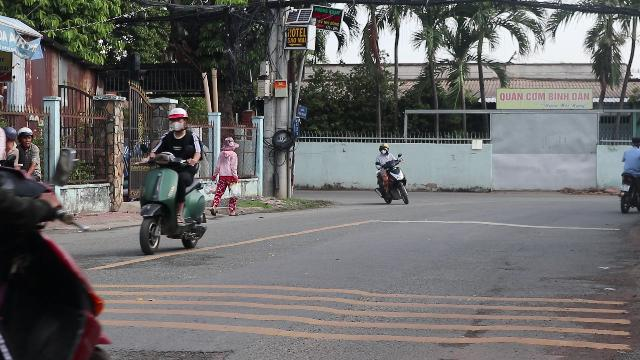helmet: (166, 107, 188, 131)
motorcyclist: (135, 106, 211, 253)
